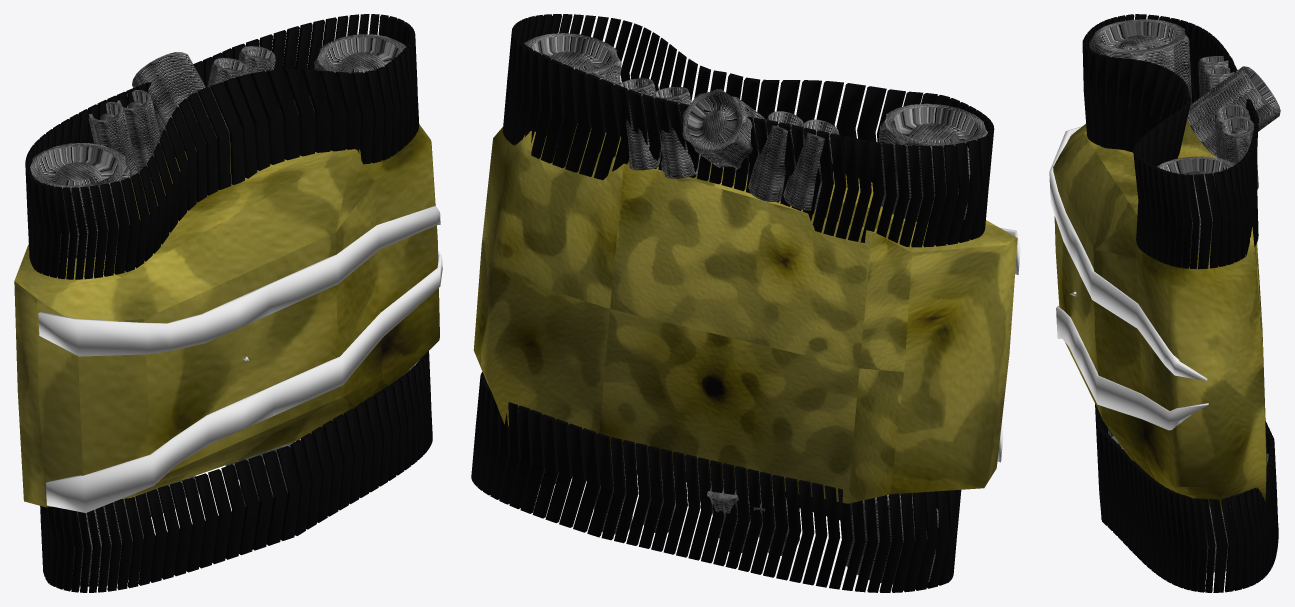
The model's file is Rhino_dead.fbx.
3 views of the same model, side by side, from view 1: azimuth 30°, elevation 25°; view 2: azimuth 150°, elevation 25°; view 3: azimuth 270°, elevation 25° (orthographic). The views are drawn at different scales.
Visible parts, largest first — view 1: Body0, Color0_Material.009, Color1_None, Wheels_WheelsMat; view 2: Body0, Color0_Material.009, Wheels_WheelsMat; view 3: Body0, Color0_Material.009, Wheels_WheelsMat, Color1_None.
Part boxes in pixels (x1=…): Body0: x1=14, y1=96, x2=439, y2=507; Color0_Material.009: x1=25, y1=14, x2=432, y2=592; Color1_None: x1=38, y1=206, x2=442, y2=512; Wheels_WheelsMat: x1=30, y1=34, x2=419, y2=586; Body0: x1=473, y1=126, x2=1017, y2=503; Color0_Material.009: x1=471, y1=14, x2=994, y2=592; Wheels_WheelsMat: x1=524, y1=33, x2=987, y2=584; Body0: x1=1053, y1=120, x2=1266, y2=512; Color0_Material.009: x1=1082, y1=14, x2=1278, y2=592; Wheels_WheelsMat: x1=1089, y1=19, x2=1280, y2=572; Color1_None: x1=1049, y1=126, x2=1208, y2=430.
Size of the model in its own units: 111 by 106 by 50.4.
Materials: 3 (2 with a texture image).
